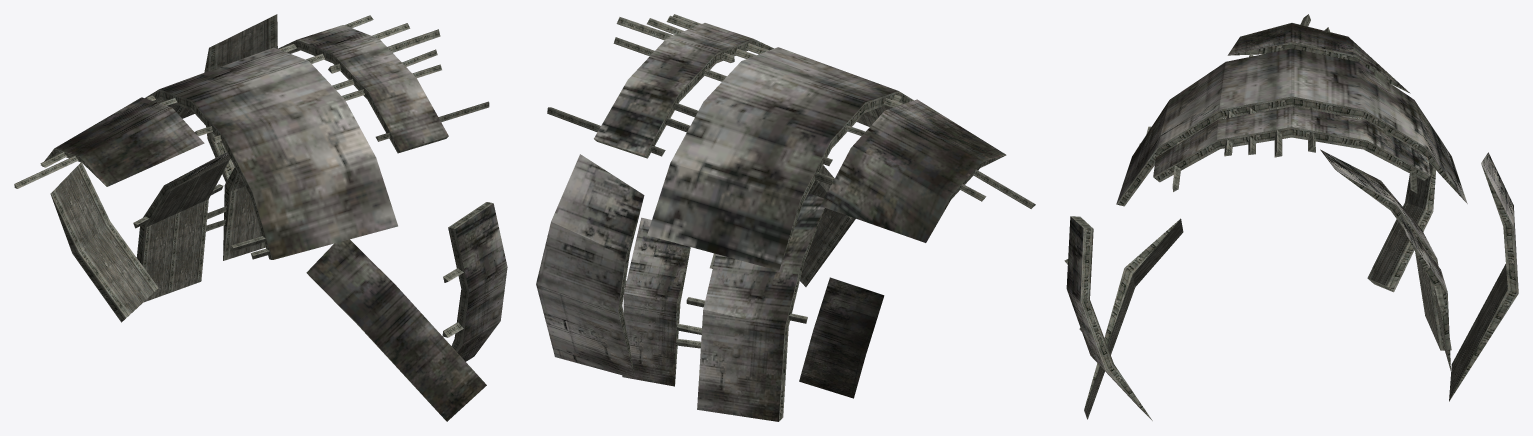
Rendered from thm_tato_lucky_despot_debris_nose_cone_l1.fbx.
3 views of the same model, side by side, from view 1: azimuth 30°, elevation 25°; view 2: azimuth 150°, elevation 25°; view 3: azimuth 270°, elevation 25° (orthographic). The views are drawn at different scales.
Visible parts, largest first — view 1: mesh_node; view 2: mesh_node; view 3: mesh_node.
Boxes of the visible parts, bbox=[...] form: mesh_node: bbox=[14, 14, 507, 421]; mesh_node: bbox=[536, 14, 1035, 421]; mesh_node: bbox=[1064, 14, 1518, 420].
Size of the model in its own units: 17.36 by 12.33 by 16.3.
Materials: 2 (2 with a texture image).
